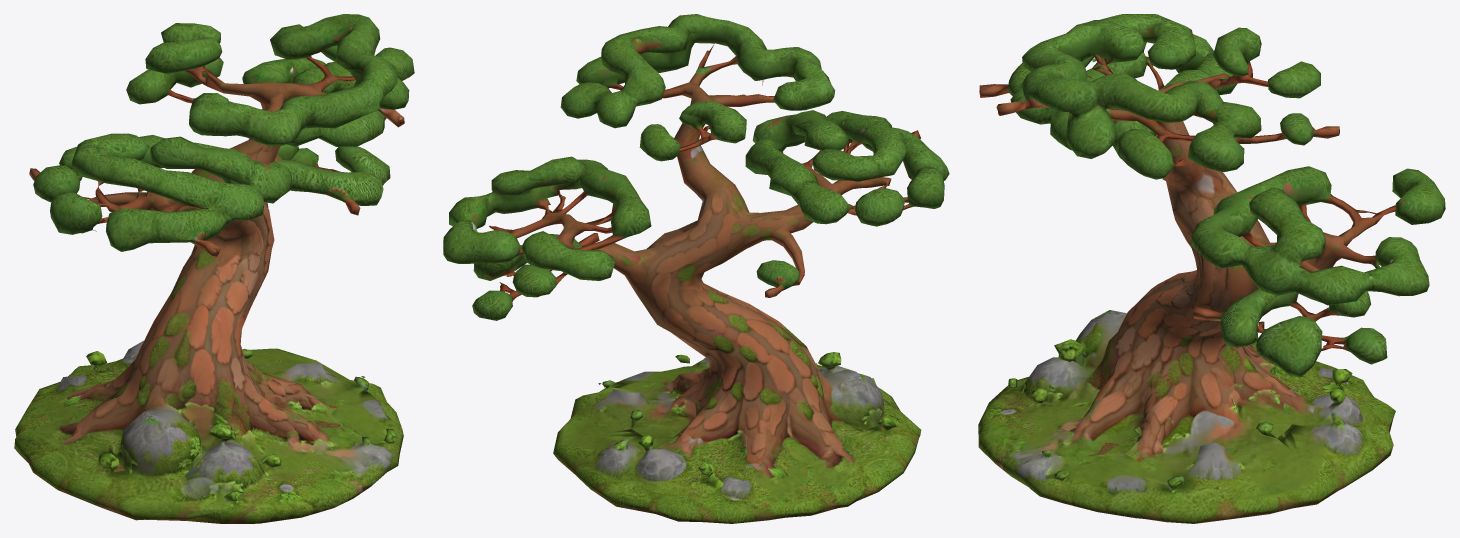
The picture shows the model from 3 angles, left to right: view 1: azimuth 30°, elevation 25°; view 2: azimuth 150°, elevation 25°; view 3: azimuth 270°, elevation 25°; orthographic projection. The views are drawn at different scales.
Parts seen in each view (by area): view 1: tree-pine-prized; view 2: tree-pine-prized; view 3: tree-pine-prized.
Part boxes in pixels (x1,y1,x2,y2): tree-pine-prized: (14,14,414,523); tree-pine-prized: (443,14,949,523); tree-pine-prized: (978,14,1445,523).
Size of the model in its own units: 4.95 by 4.5 by 4.52.
Materials: 1 (1 with a texture image).
